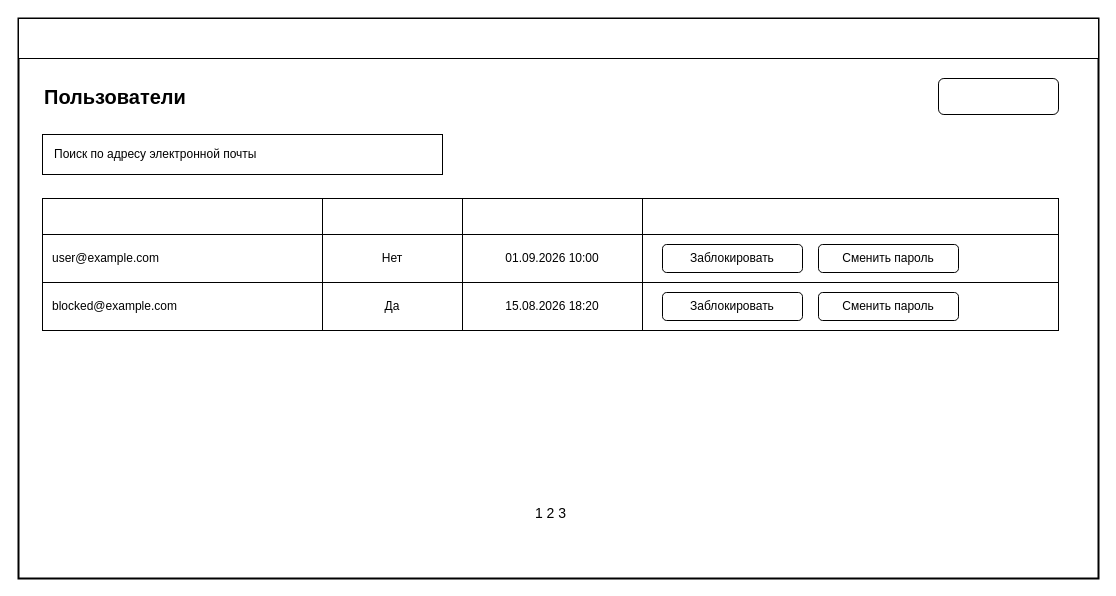
Image size: 1116x596. Some labels were removed from this diagram. The box of each missing label's shape, as (x1, y1, x2, y2) in pixels:
Блокировка: (322, 198, 462, 234)
Выйти: (938, 78, 1058, 114)
Заряди сам — администратор: (18, 18, 1098, 58)
Почта: (42, 198, 322, 234)
Создан: (462, 198, 642, 234)
